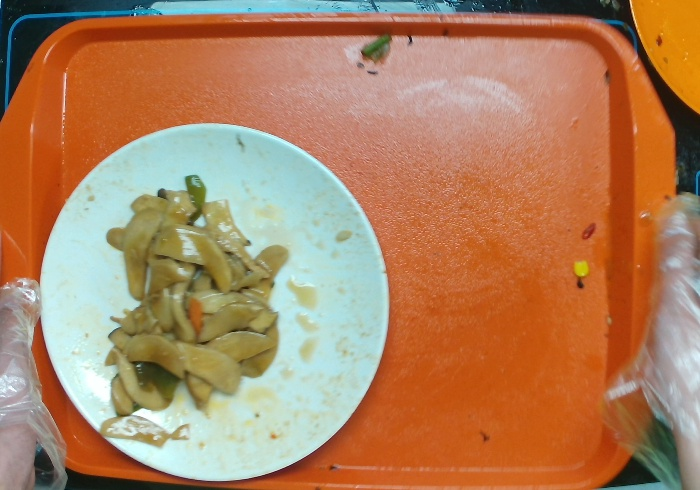HZYJPL-Bai_Se_Yuan_Pan: (38, 122, 392, 483)
